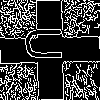U: (25, 25, 72, 62)
